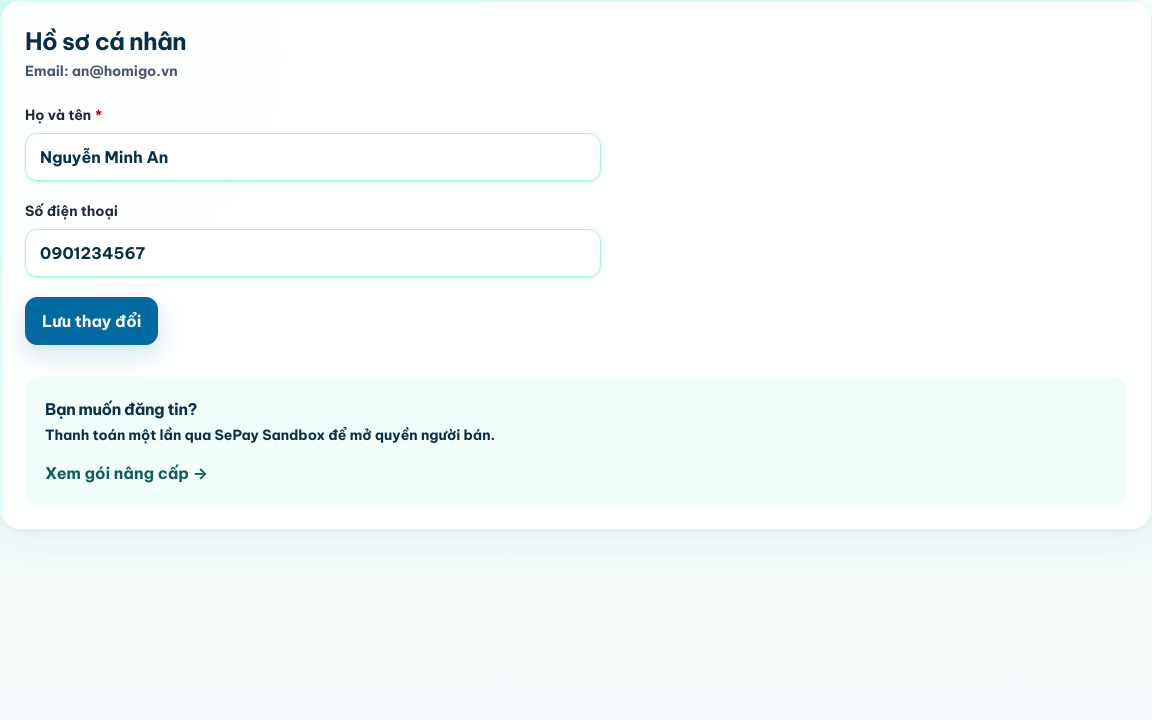
Test: ProfilePage › loads and updates the current user profile
Check: the field showing "0901234567" is shown, box [25,229,601,277]
Replace the text in the field showing "Nguyễn Minh An" with "Nguyễn Minh Anh" at coordinates (313, 157), box [25,133,601,181]
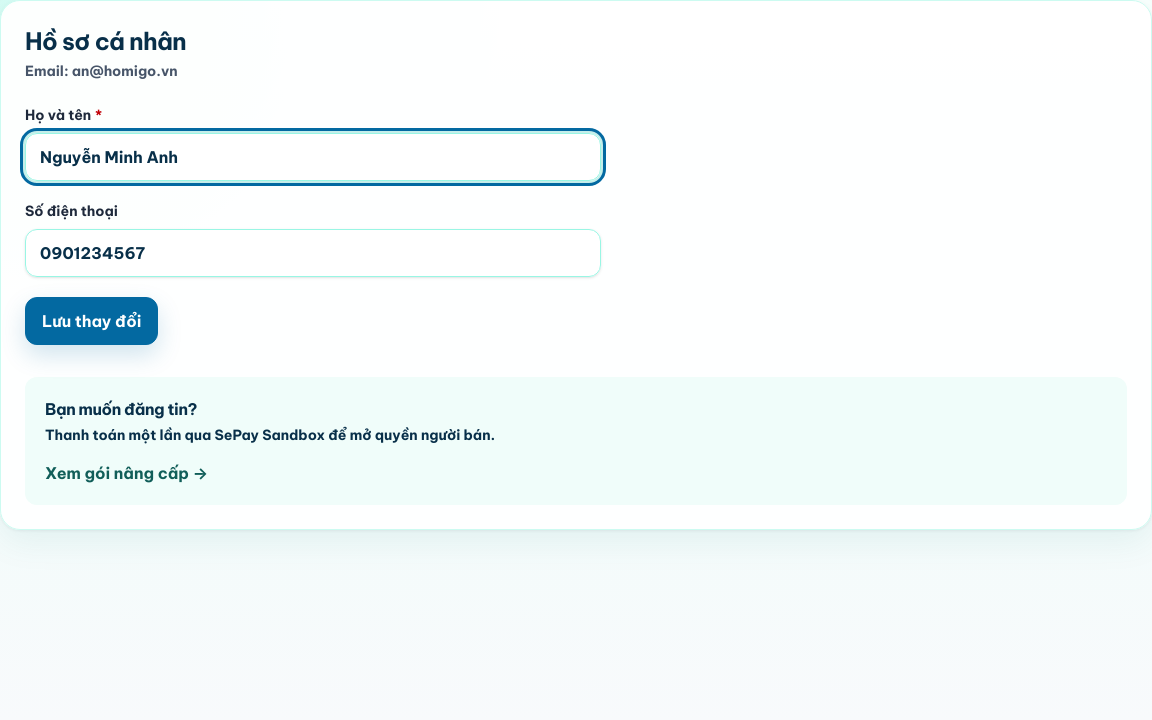
Clear the field labelled "Số điện thoại" at coordinates (313, 253), box [25,229,601,277]
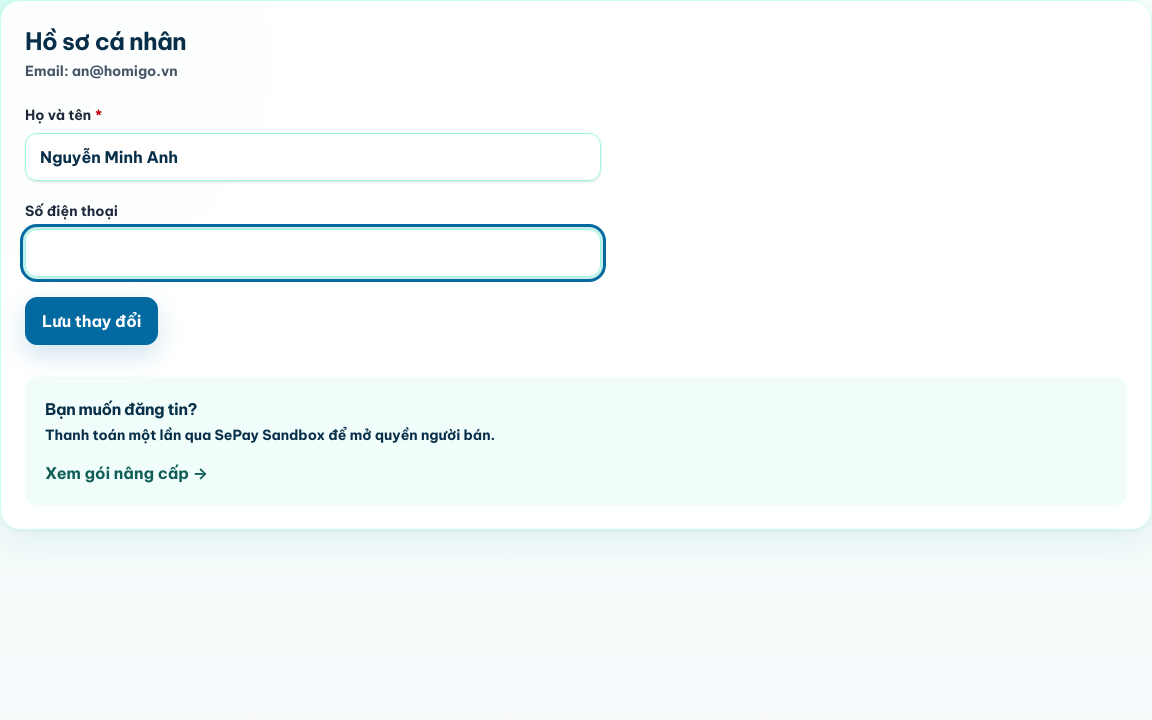
Click the button "Lưu thay đổi".
click(92, 321)  # box [25,297,158,345]
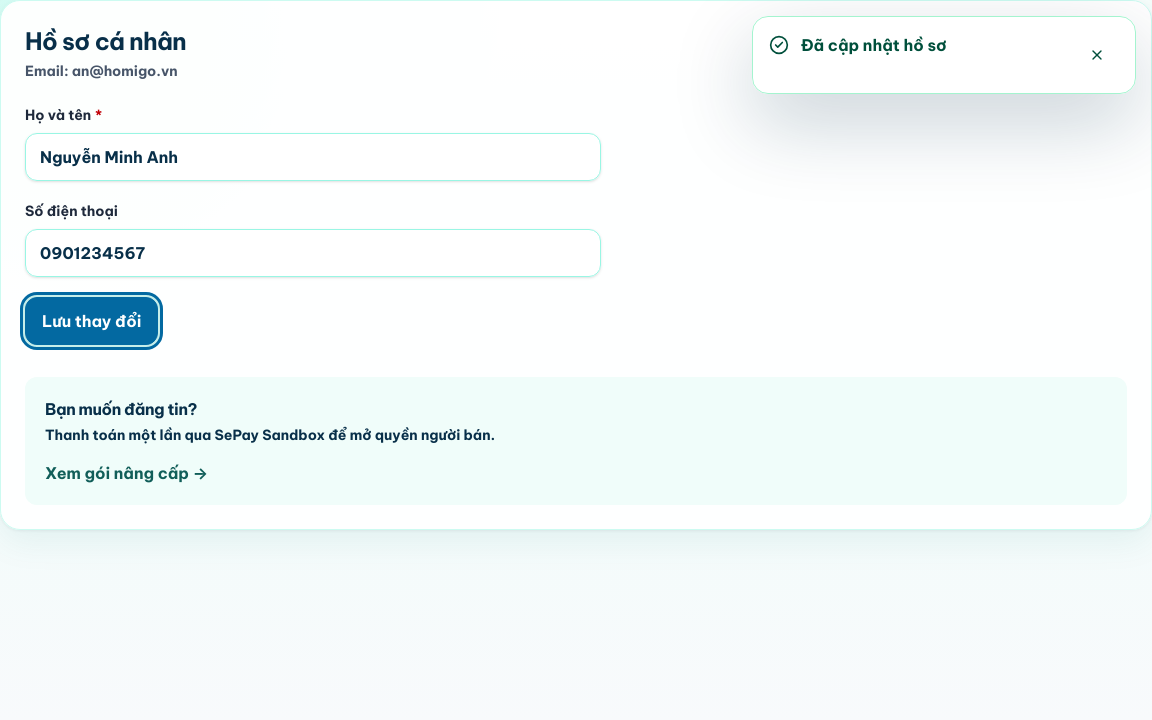
Check: the text "Đã cập nhật hồ sơ" is shown, box [801,35,947,55]
